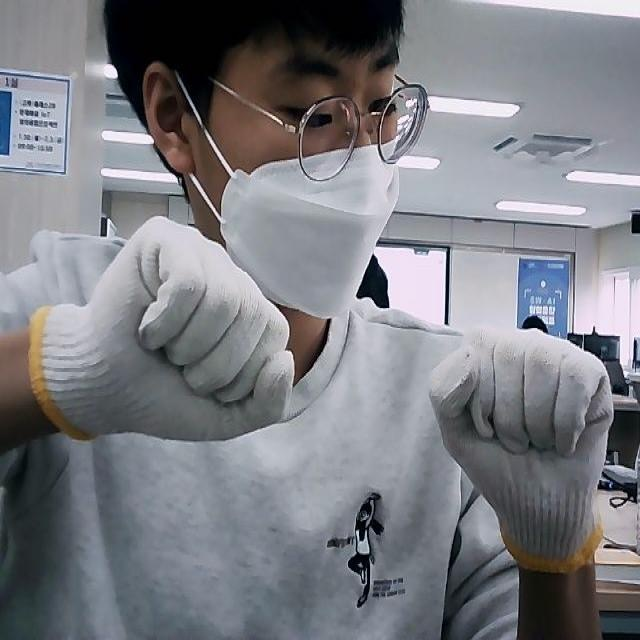Guantes: (26, 212, 296, 444), (429, 328, 618, 569)
